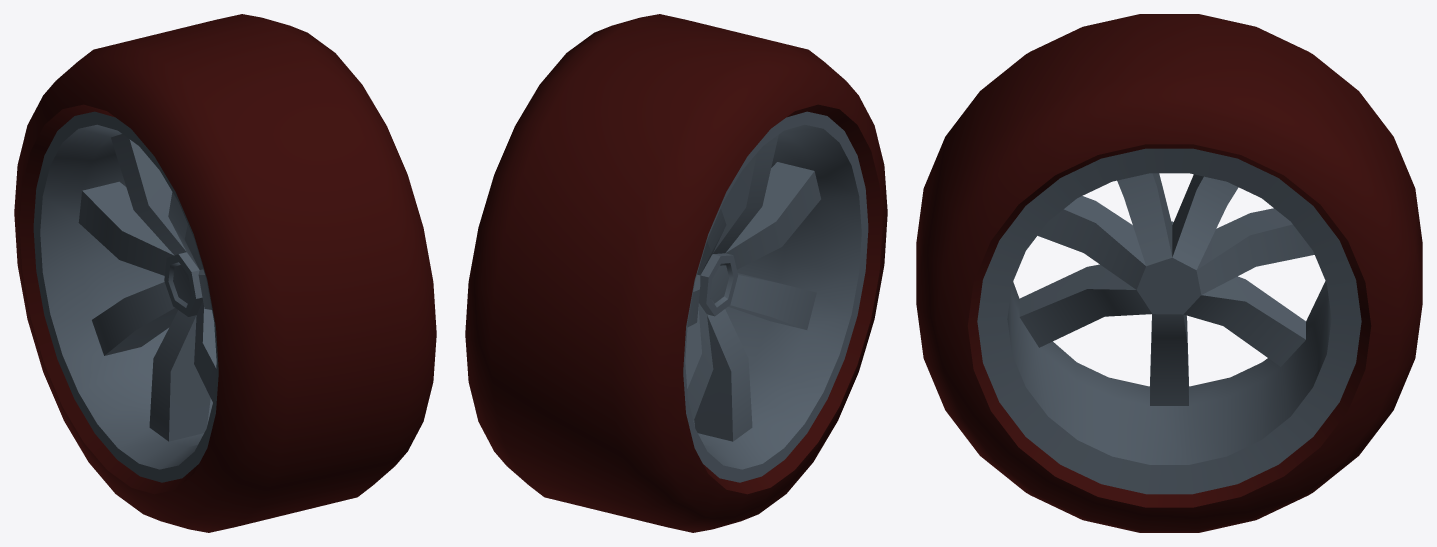
The picture shows the model from 3 angles, left to right: view 1: azimuth 30°, elevation 25°; view 2: azimuth 150°, elevation 25°; view 3: azimuth 270°, elevation 25°; orthographic projection.
Visible parts, largest first — view 1: W2B; view 2: W2B; view 3: W2B.
Boxes of the visible parts, <box> form: W2B: <box>14,14,436,532</box>; W2B: <box>465,14,887,532</box>; W2B: <box>916,14,1422,532</box>.
Bounding box in the file's own units: 14.02 × 28.35 × 28.56.
